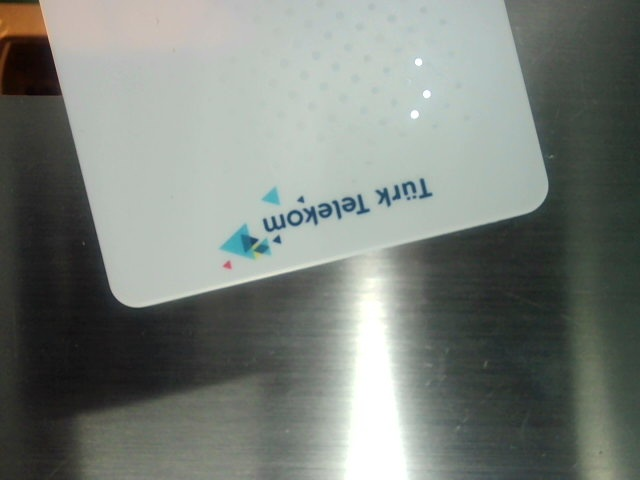AQ_TURKTelekom: (207, 177, 448, 266)
